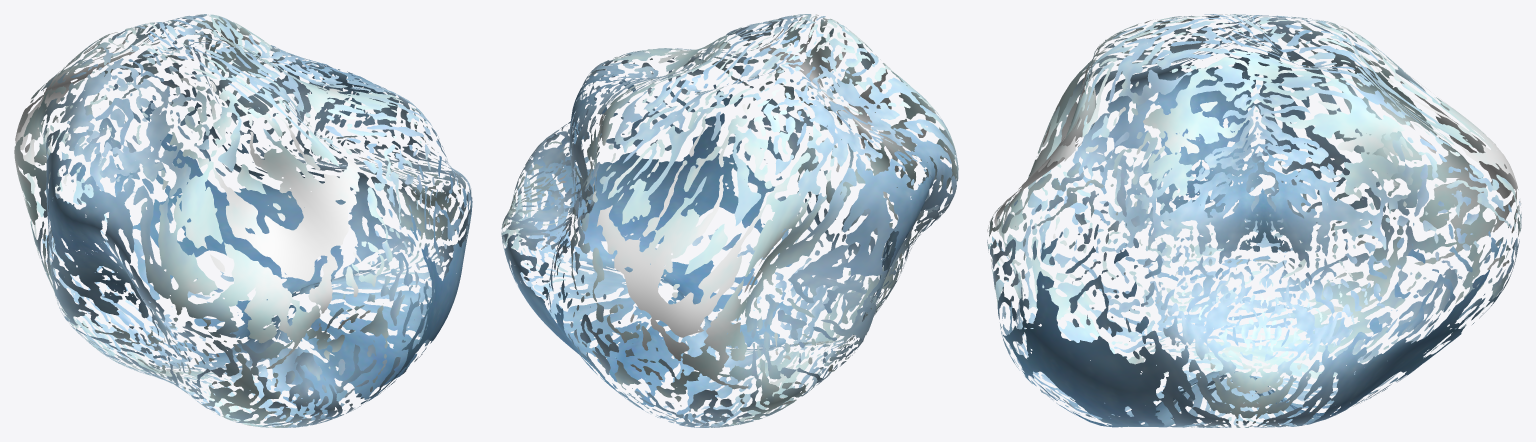
The model's file is comet-2.obj.
The picture shows the model from 3 angles, left to right: view 1: azimuth 30°, elevation 25°; view 2: azimuth 150°, elevation 25°; view 3: azimuth 270°, elevation 25°; orthographic projection. The views are drawn at different scales.
Parts seen in each view (by area): view 1: Sphere; view 2: Sphere; view 3: Sphere.
Part boxes in pixels (<box>): Sphere: <box>14,14,472,427</box>; Sphere: <box>501,14,958,427</box>; Sphere: <box>987,14,1521,427</box>.
Bounding box in the file's own units: 2.42 × 2.01 × 2.66.
